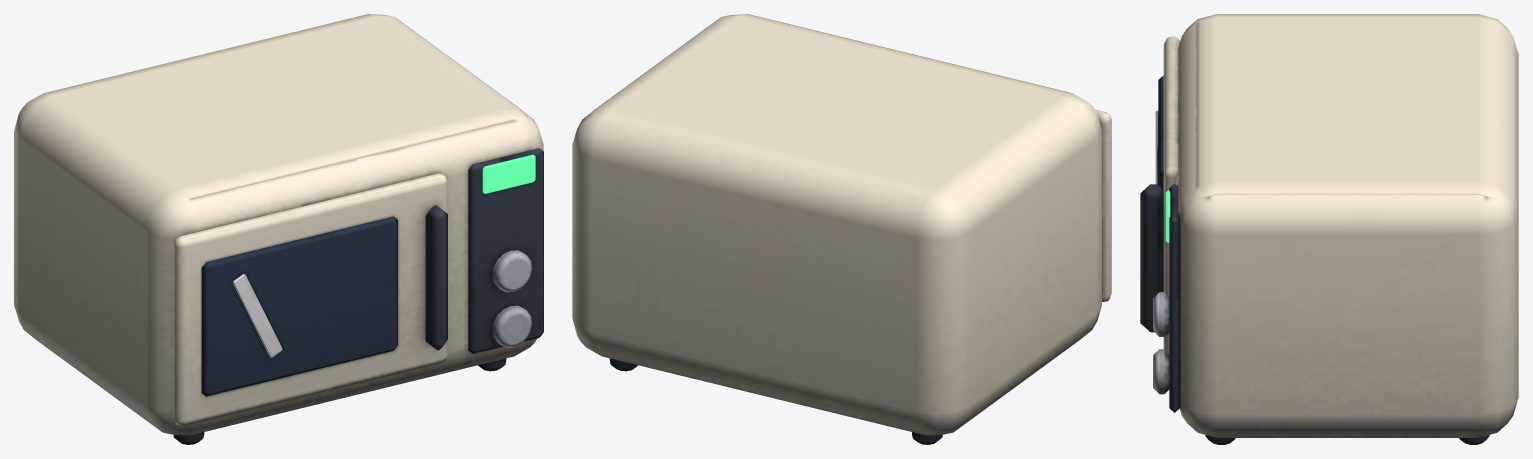
File: microwave.glb
3 views of the same model, side by side, from view 1: azimuth 30°, elevation 25°; view 2: azimuth 150°, elevation 25°; view 3: azimuth 270°, elevation 25° (orthographic). The views are drawn at different scales.
Parts seen in each view (by area): view 1: microwave; view 2: microwave; view 3: microwave.
Part boxes in pixels (<box>): microwave: <box>14,14,543,444</box>; microwave: <box>572,14,1111,444</box>; microwave: <box>1140,14,1518,444</box>.
Size of the model in its own units: 0.52 by 0.325 by 0.42.
Materials: 6 (5 with a texture image).
